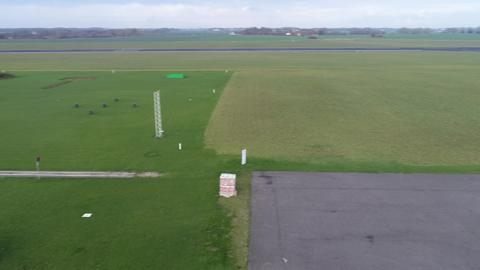RockwoolPallet: (219, 173, 237, 197)
